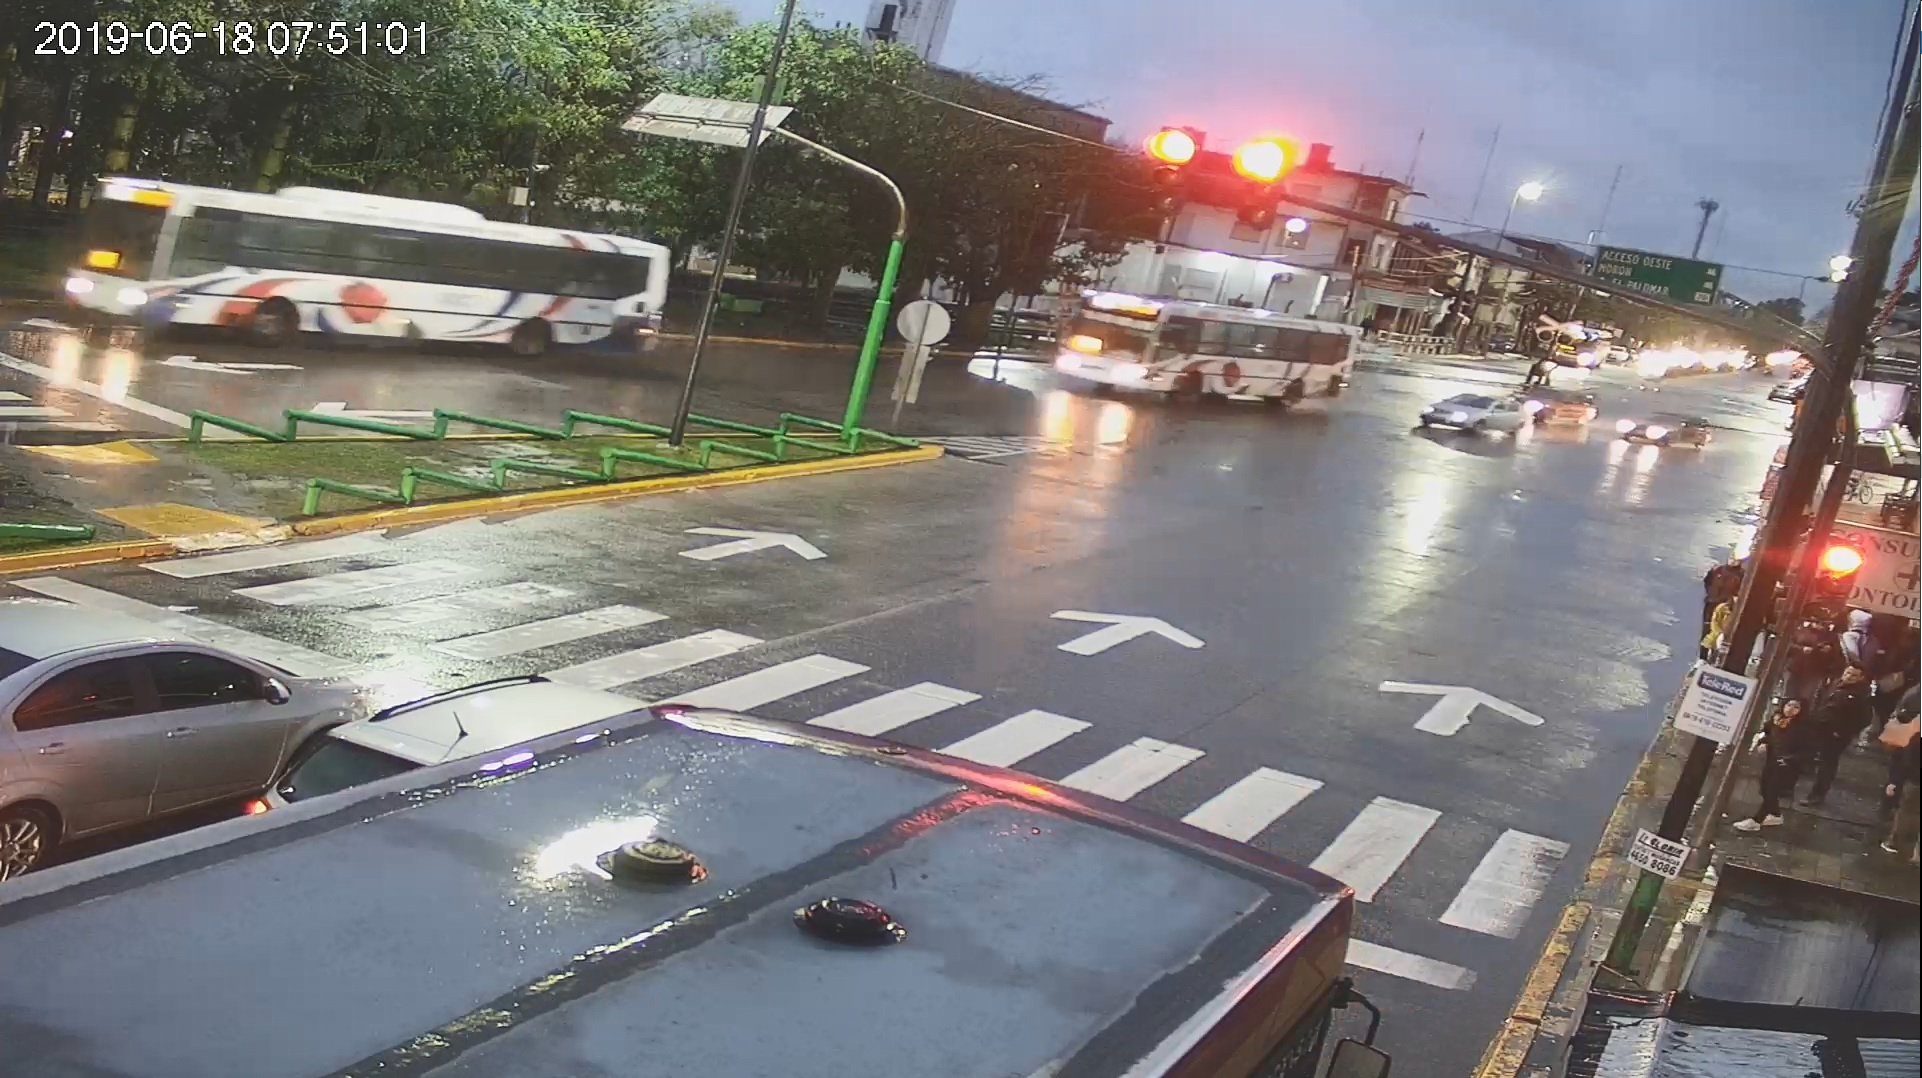bus: (22, 706, 1393, 1078), (77, 165, 668, 395), (1049, 272, 1358, 410)
car: (4, 577, 375, 879), (1412, 381, 1525, 457)
